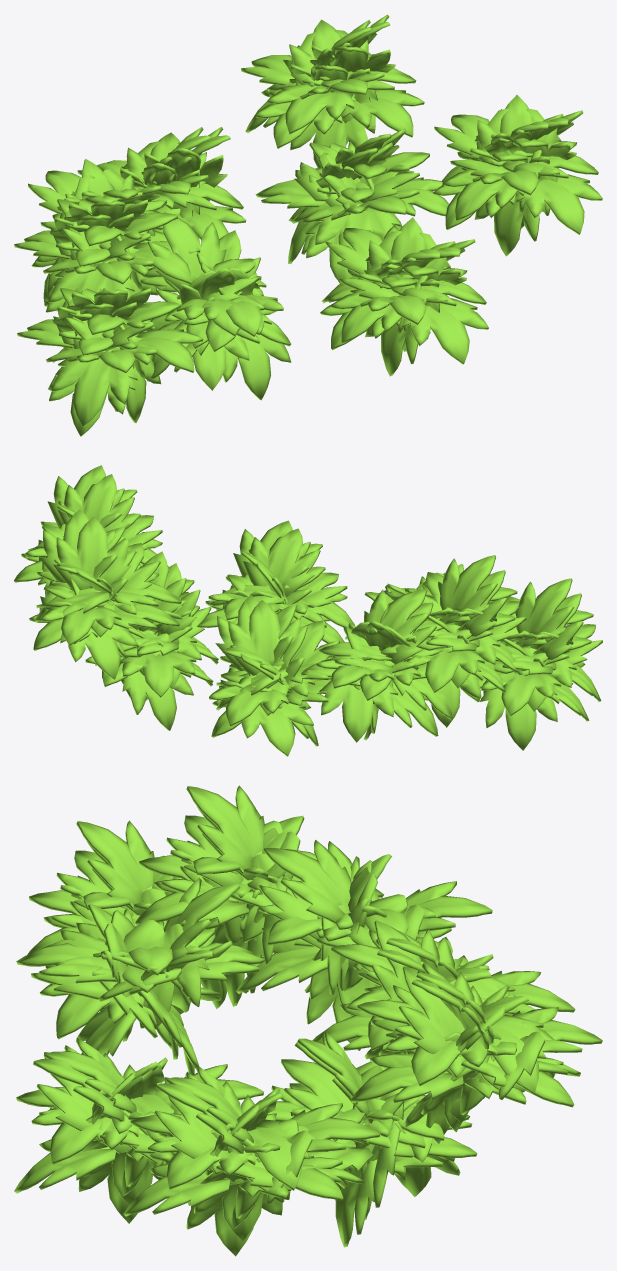
Rendered from maple_tree_1784488121323_model.glb.
3 renders of one model, top to bottom at view 1: azimuth 30°, elevation 25°; view 2: azimuth 150°, elevation 25°; view 3: azimuth 270°, elevation 25°, orthographic. The views are drawn at different scales.
Visible parts, largest first — view 1: Leaf.001; view 2: Leaf.001; view 3: Leaf.001.
Part boxes in pixels (x1,y1,x2,y2): Leaf.001: [14, 14, 602, 436]; Leaf.001: [14, 465, 602, 756]; Leaf.001: [14, 785, 602, 1256].
Size of the model in its own units: 25.38 by 10.49 by 18.
